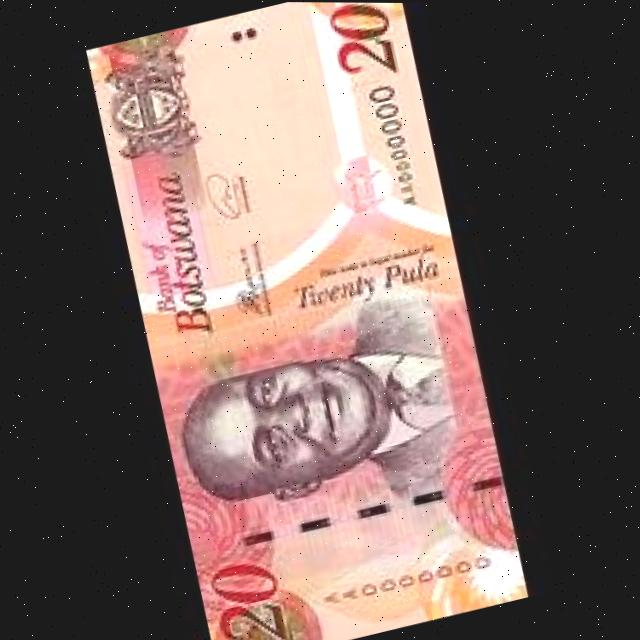banknote: (66, 0, 550, 640)
